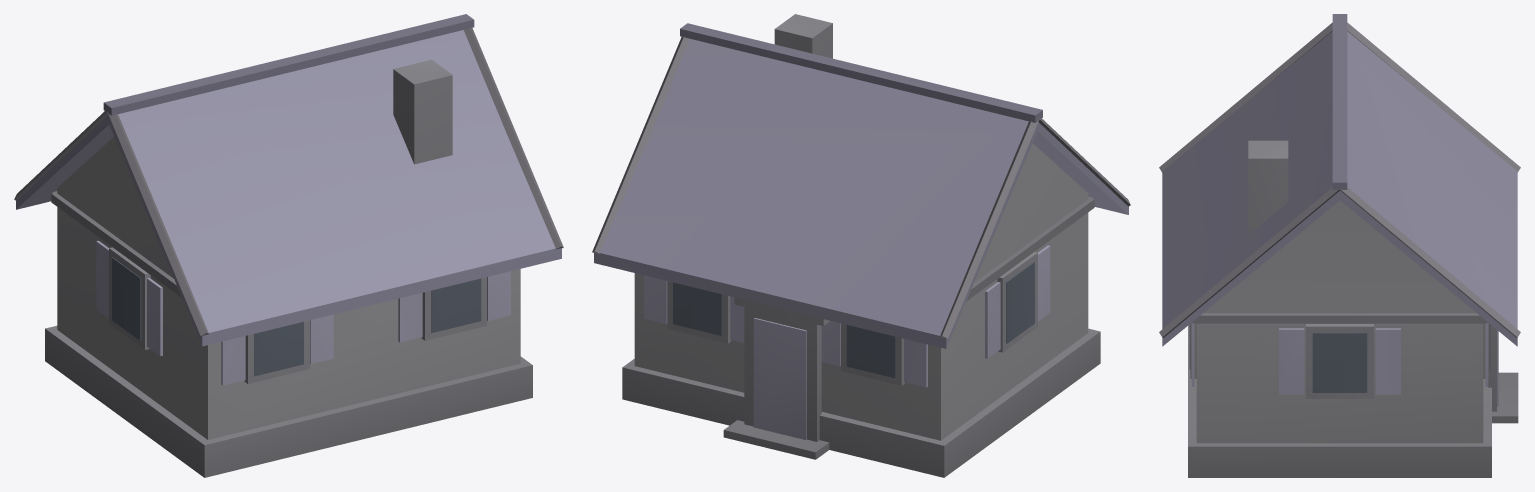
File: cottage_storm.gltf
3 views of the same model, side by side, from view 1: azimuth 30°, elevation 25°; view 2: azimuth 150°, elevation 25°; view 3: azimuth 270°, elevation 25° (orthographic). The views are drawn at different scales.
Parts seen in each view (by area): view 1: Body; view 2: Body; view 3: Body.
Boxes of the visible parts, bbox=[...] form: Body: bbox=[14, 14, 563, 477]; Body: bbox=[592, 14, 1130, 477]; Body: bbox=[1159, 14, 1520, 477].
Bounding box in the file's own units: 6.97 × 5.84 × 6.32.
